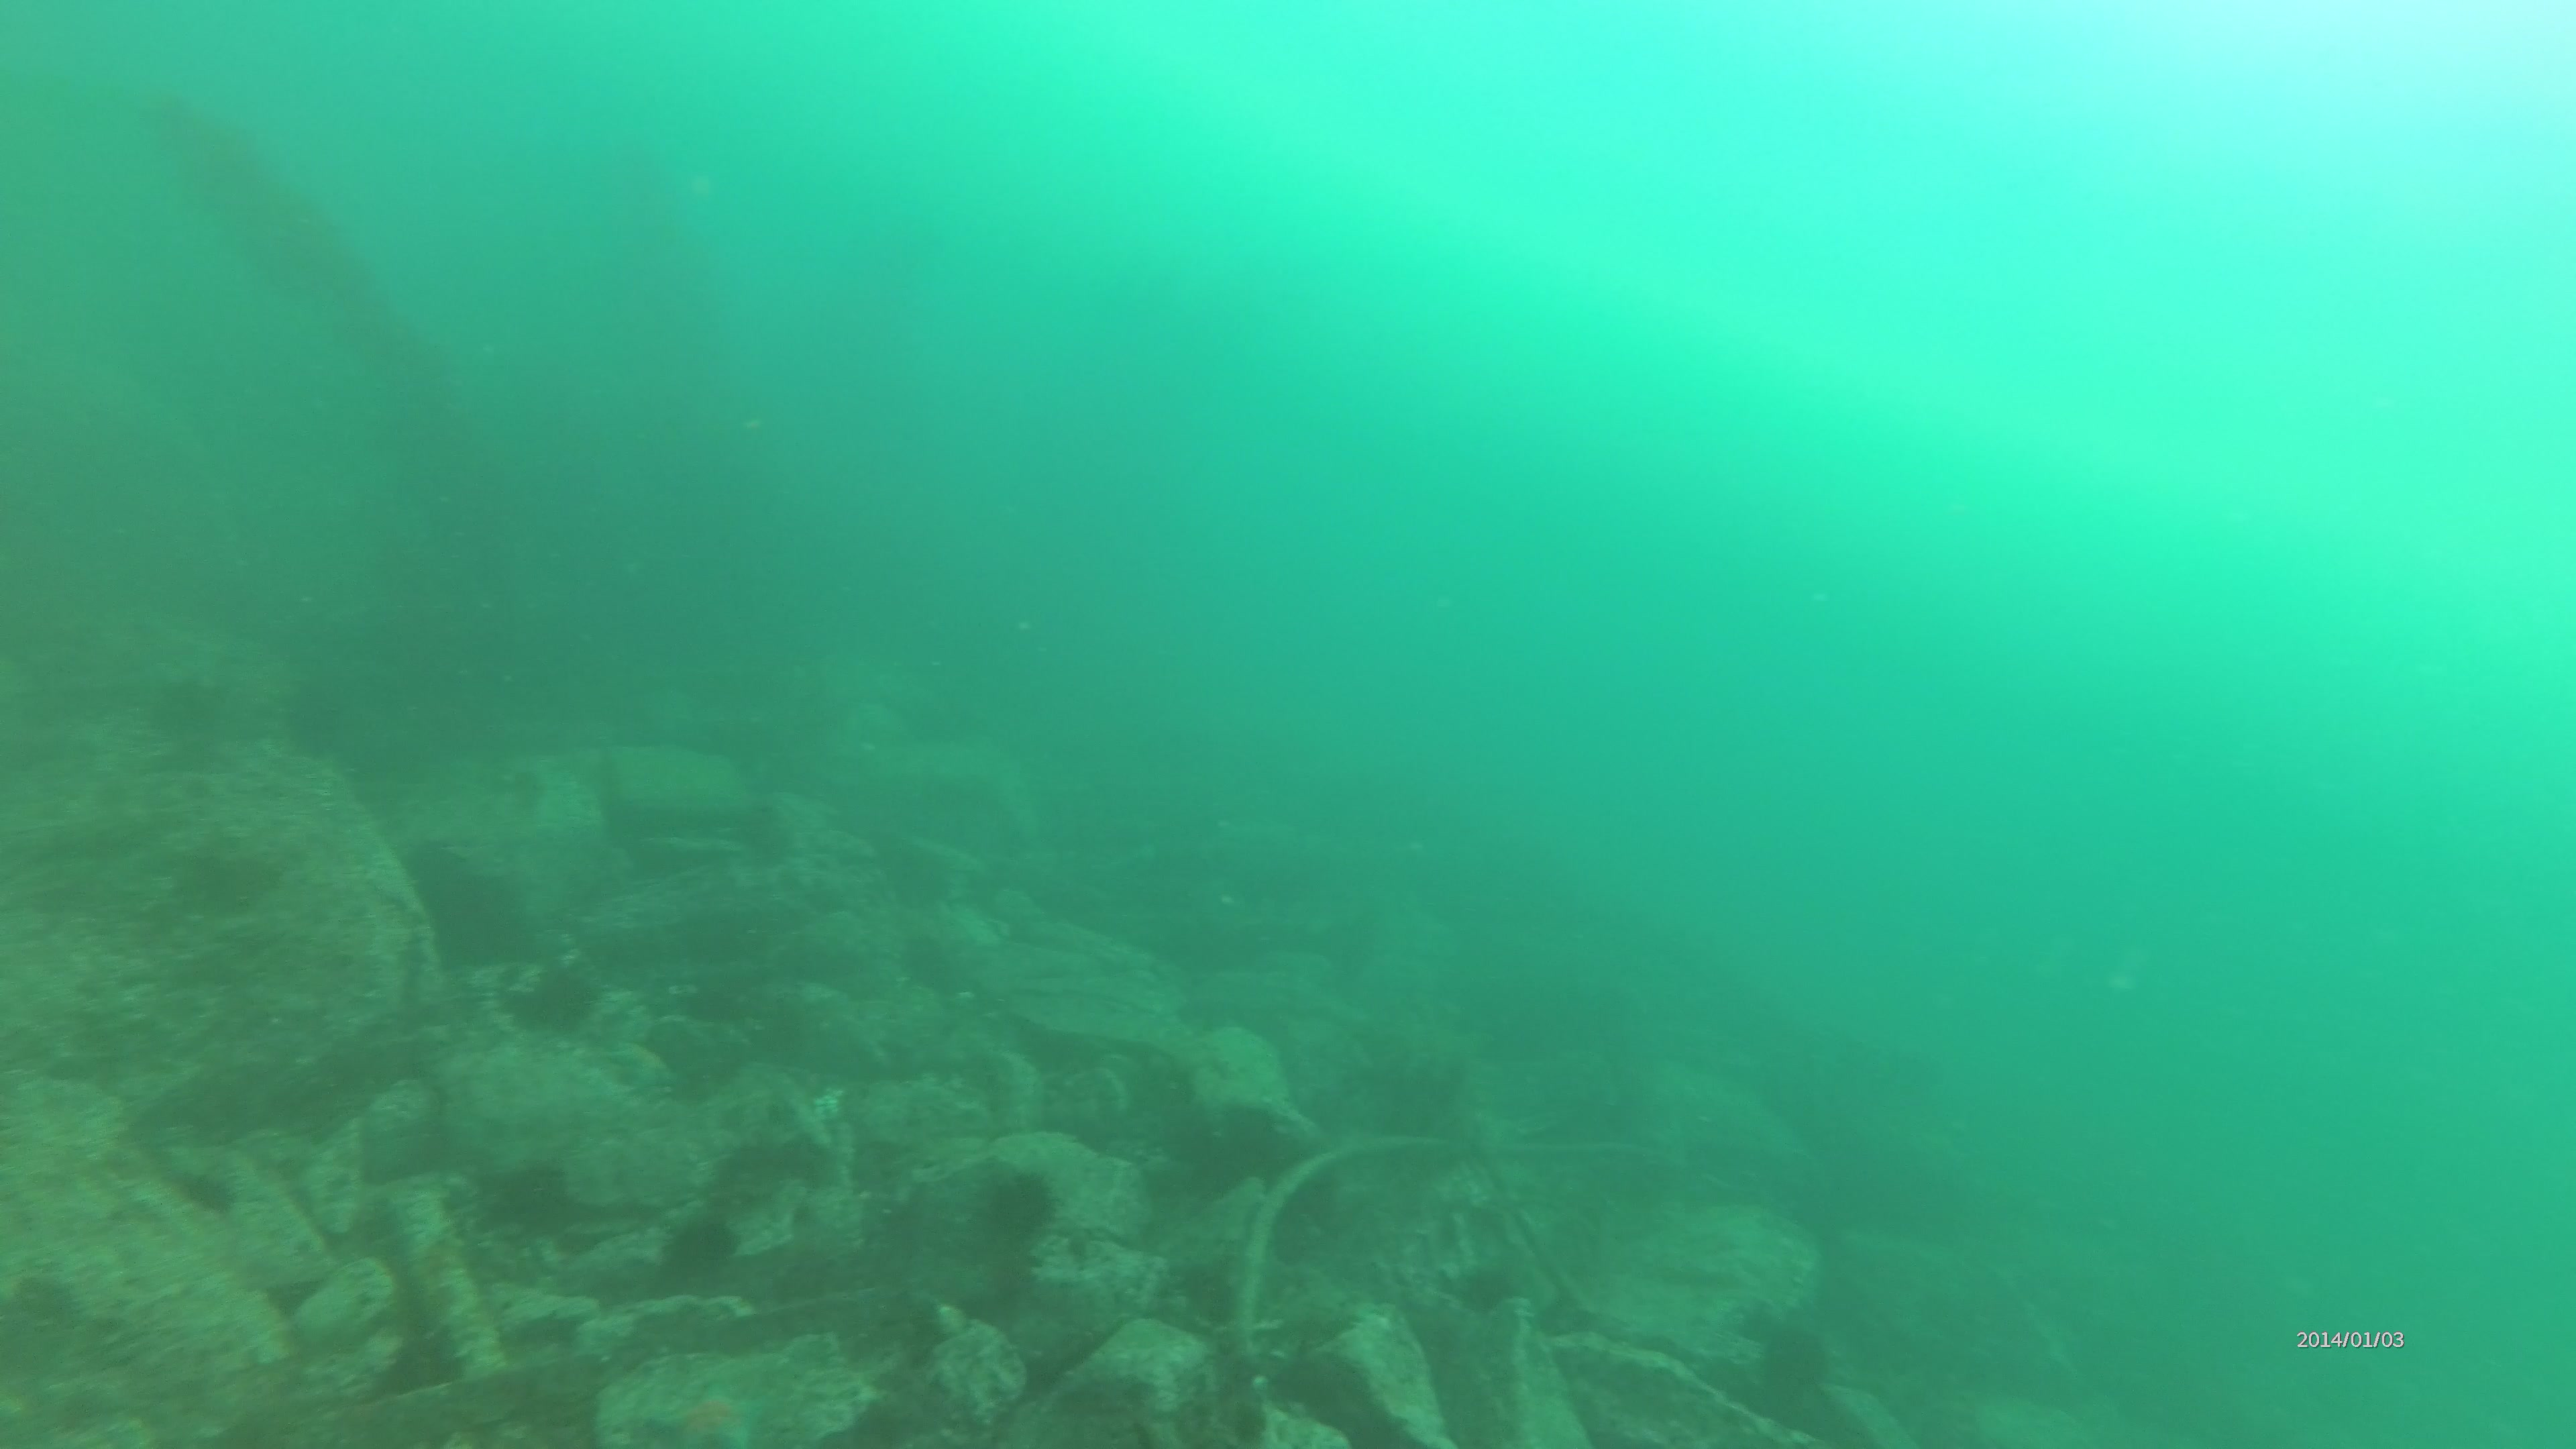echinus: (973, 1175, 1072, 1256), (494, 1164, 571, 1231), (651, 1215, 741, 1267), (773, 1136, 832, 1214), (699, 1141, 763, 1208)
starfish: (635, 1378, 777, 1449)
